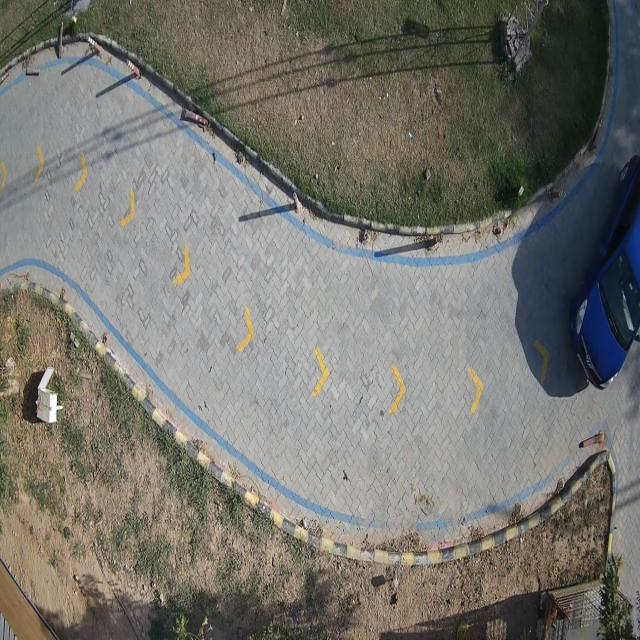car: (575, 156, 640, 389)
